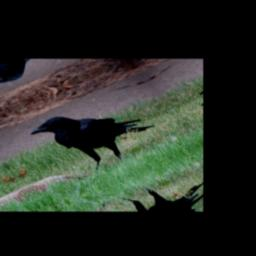Crow: (24, 87, 169, 183)
